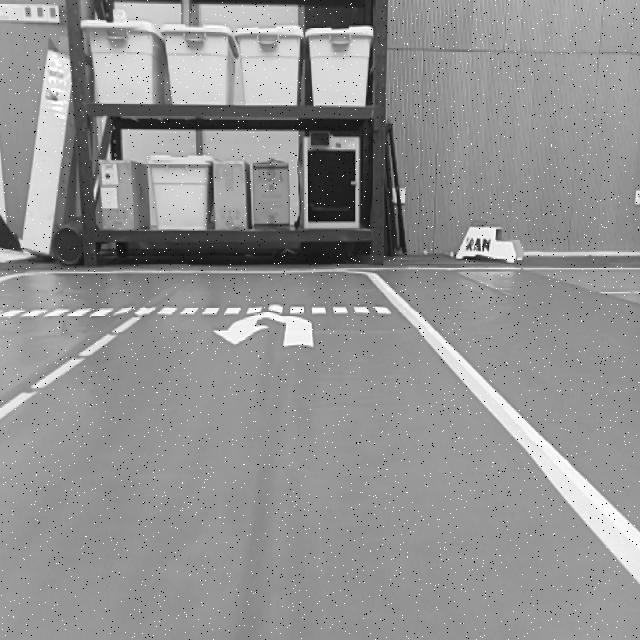left_lane: (0, 315, 139, 421)
right_lane: (368, 274, 640, 589)
